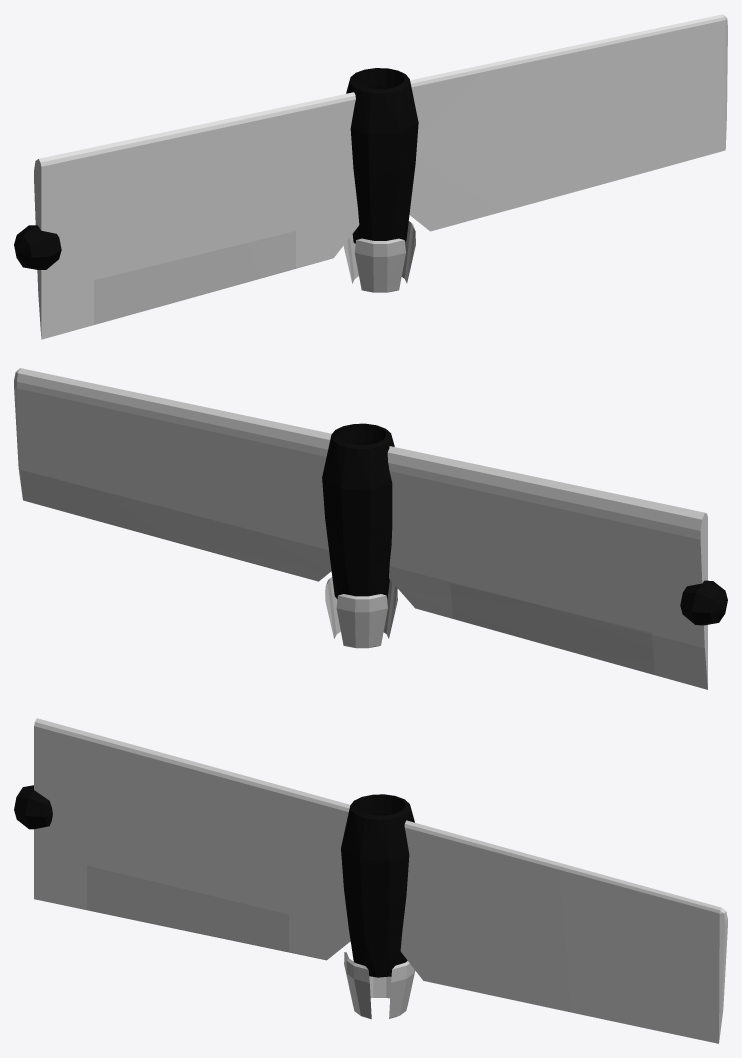
File: Wing.fbx
3 views of the same model, one above another, from view 1: azimuth 30°, elevation 25°; view 2: azimuth 150°, elevation 25°; view 3: azimuth 330°, elevation 25° (orthographic).
Parts seen in each view (by area): view 1: wing2, wing1, engine, Aileron, exhaust, ball; view 2: wing2, wing1, engine, Aileron, exhaust, ball; view 3: wing2, wing1, engine, Aileron, exhaust, ball.
Part boxes in pixels (x1,y1,x2,y2): wing2: (409,14,727,231); wing1: (34,92,359,339); engine: (346,68,418,243); Aileron: (94,231,295,324); exhaust: (343,221,415,292); ball: (14,225,61,269); wing2: (14,368,331,581); wing1: (387,446,707,689); engine: (322,423,394,599); Aileron: (450,583,654,674); exhaust: (325,577,397,648); ball: (680,580,727,625); wing2: (400,820,727,1043); wing1: (34,718,350,960); engine: (341,794,414,977); Aileron: (87,865,288,952); exhaust: (344,952,415,1019); ball: (14,785,52,829).
Bounding box in the file's own units: 4.15 × 1.16 × 0.411.
